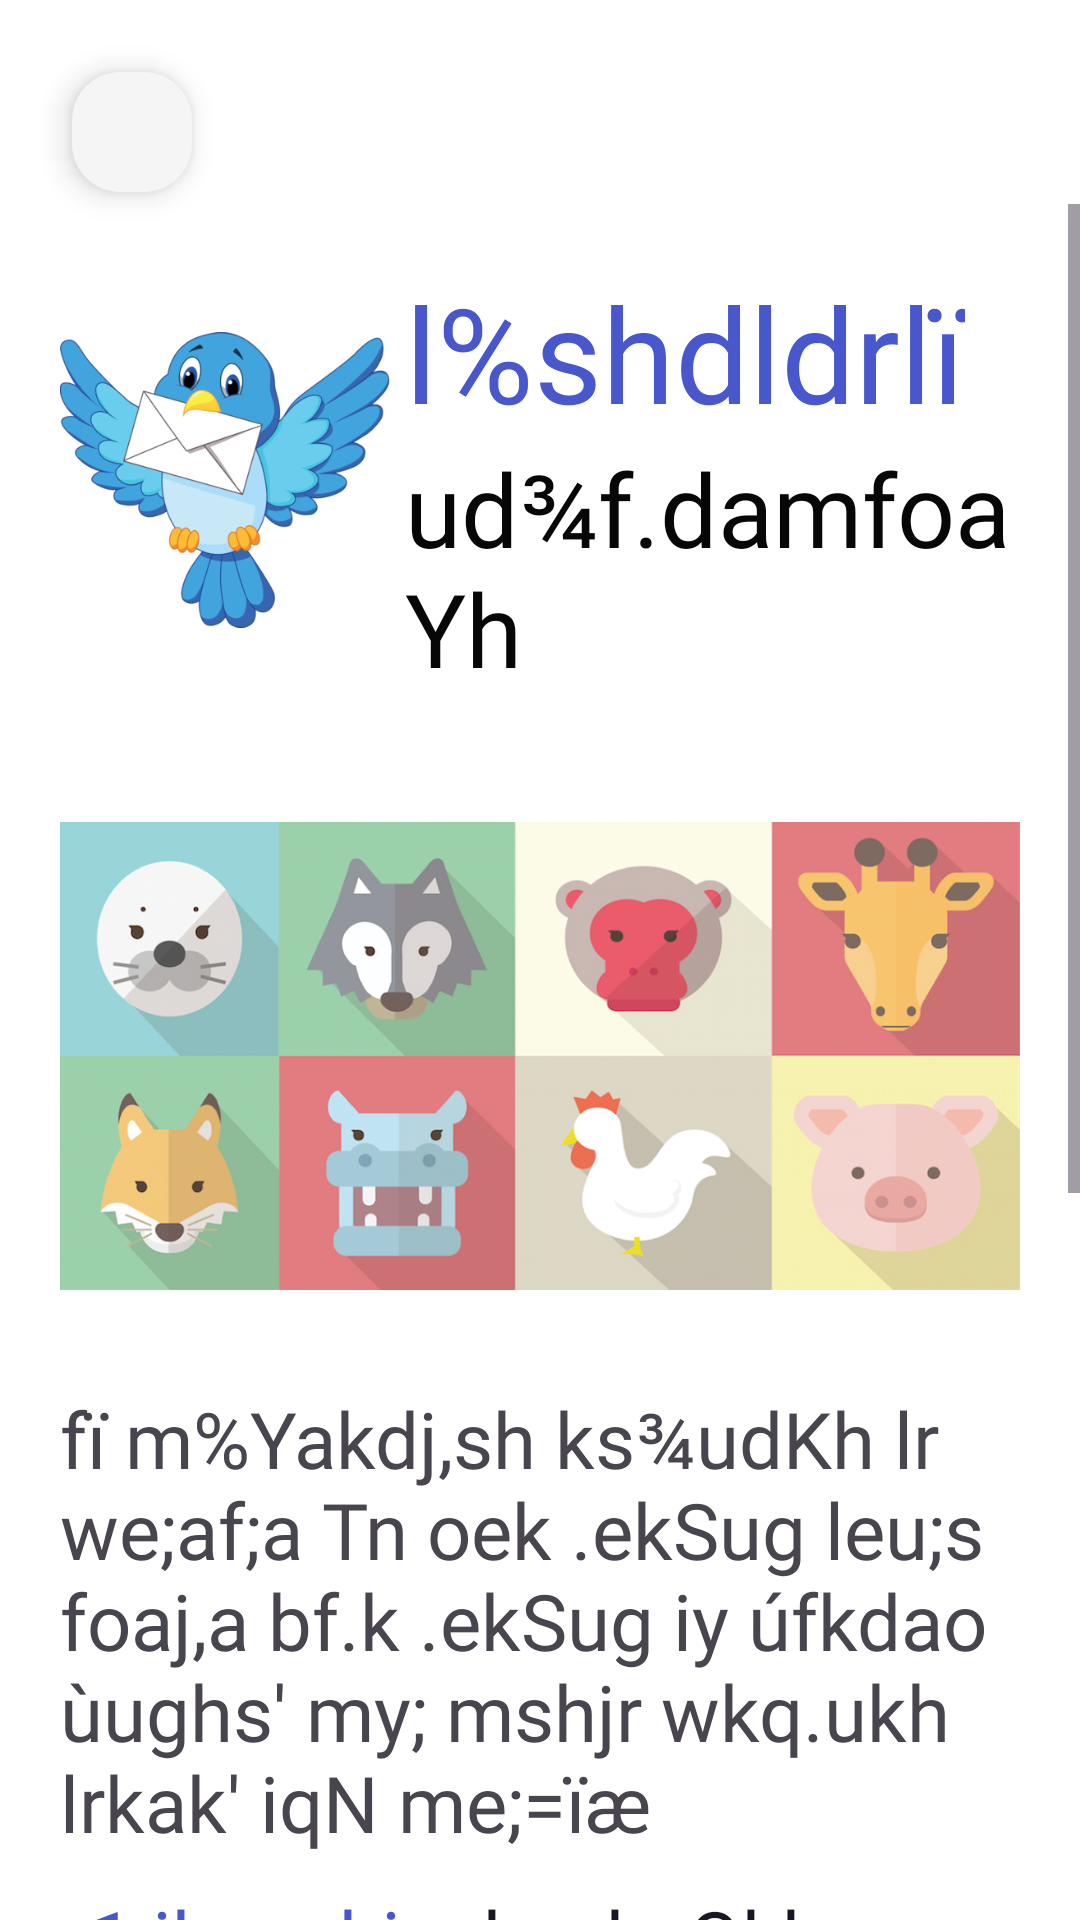

Locate icon controls on the screen. Image size 1080w x 1920h, boxes as [left=x1, top=y1, right=x2, bottom=y2].
guide animal: [left=60, top=332, right=390, bottom=628]
